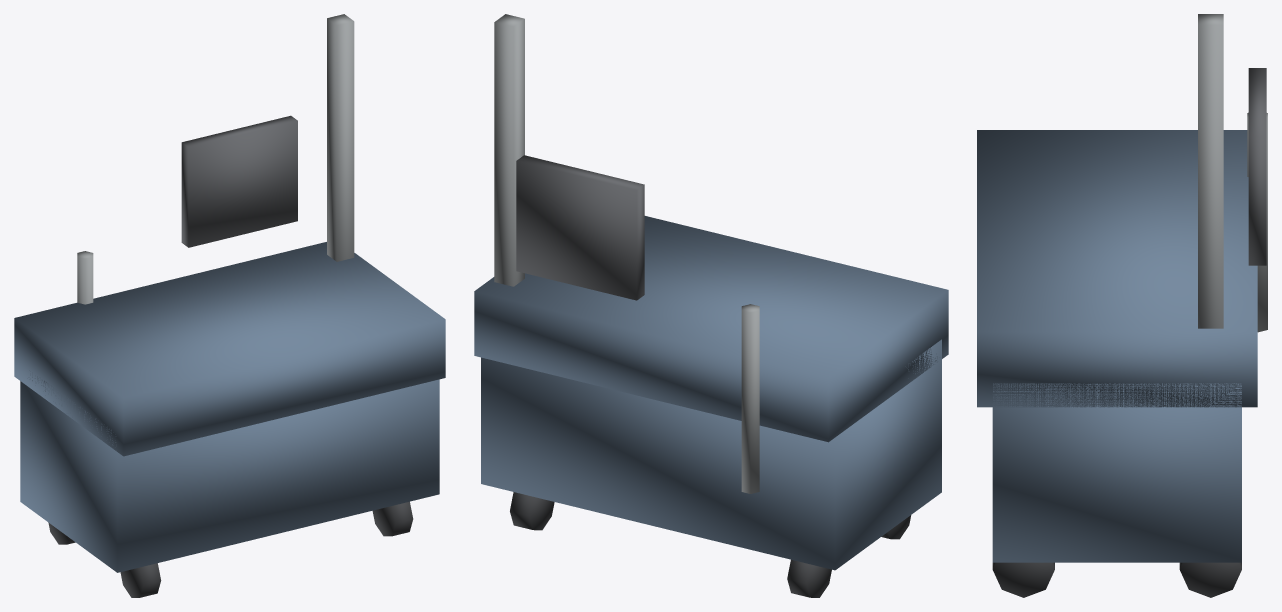
Rendered from cleaning_cart__service.glb.
3 renders of one model, left to right at view 1: azimuth 30°, elevation 25°; view 2: azimuth 150°, elevation 25°; view 3: azimuth 270°, elevation 25°, orthographic. The views are drawn at different scales.
Visible parts, largest first — view 1: world; view 2: world; view 3: world.
Boxes of the visible parts, x1=… form: world: x1=14, y1=14, x2=445, y2=597; world: x1=474, y1=14, x2=948, y2=597; world: x1=977, y1=14, x2=1267, y2=597.
Bounding box in the file's own units: 0.92 × 1.25 × 0.5599.
